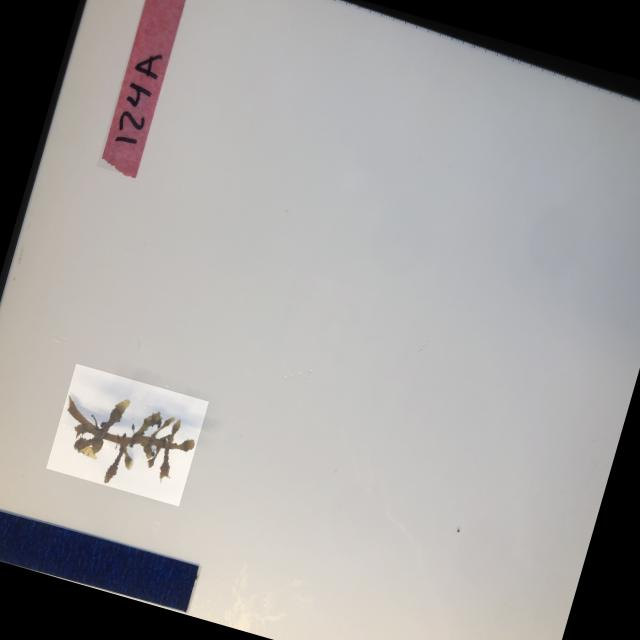index: (96, 0, 198, 176)
measure_label: (0, 495, 202, 612)
rachis_cluster: (45, 362, 208, 506)
